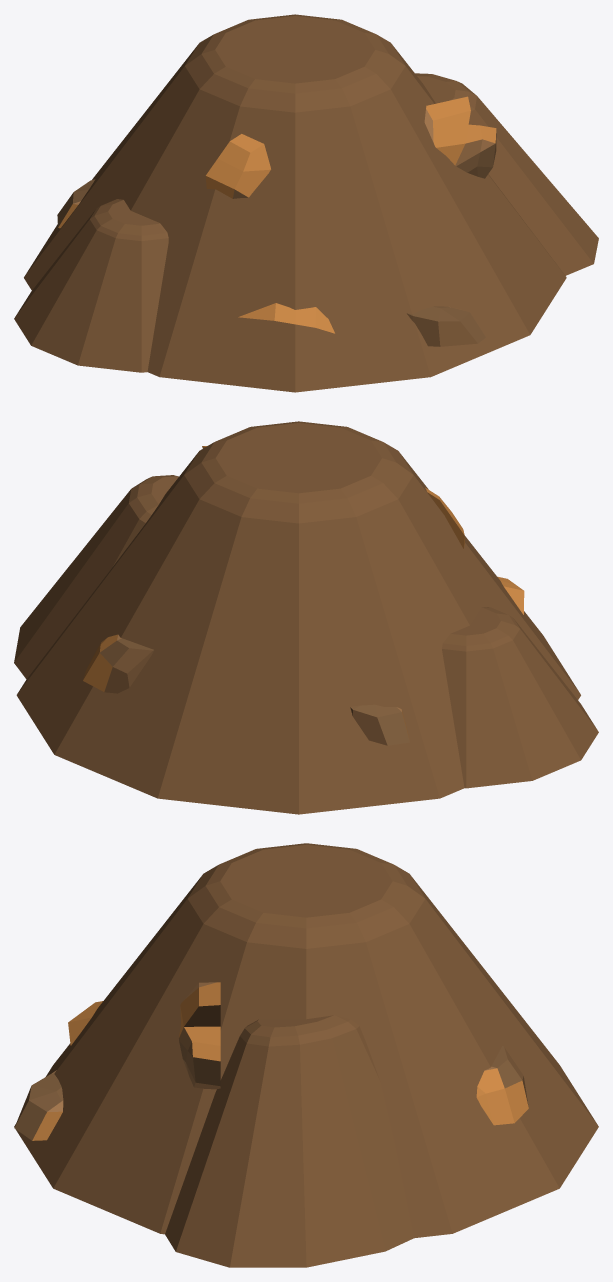
File: Clay_Item.fbx
The picture shows the model from 3 angles, top to bottom: view 1: azimuth 30°, elevation 25°; view 2: azimuth 150°, elevation 25°; view 3: azimuth 270°, elevation 25°; orthographic projection. The views are drawn at different scales.
Visible parts, largest first — view 1: Cube.025; view 2: Cube.025; view 3: Cube.025.
Boxes of the visible parts, left/top/right/bottom form: Cube.025: left=14, top=14, right=598, bottom=392; Cube.025: left=14, top=421, right=598, bottom=814; Cube.025: left=14, top=843, right=598, bottom=1267.
Bounding box in the file's own units: 0.9746 × 0.4306 × 0.8552.
